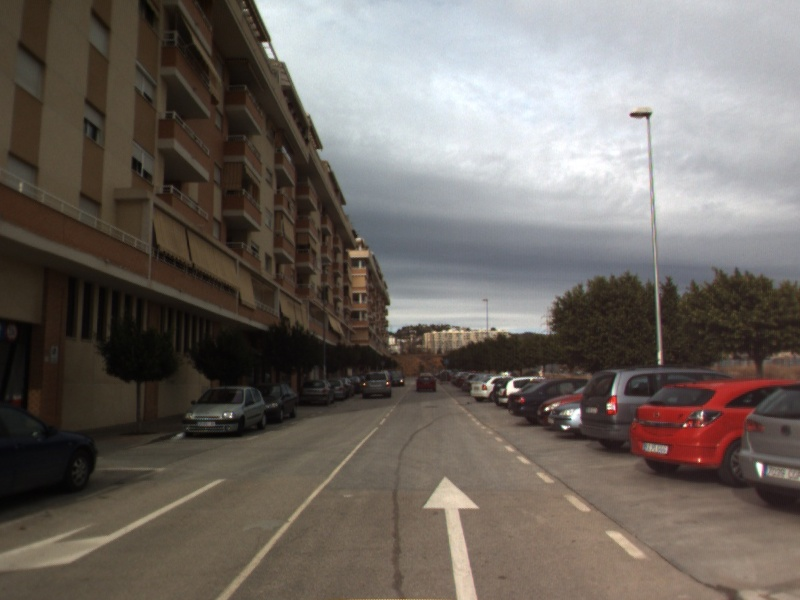STRAIGHT: (420, 474, 482, 600)
